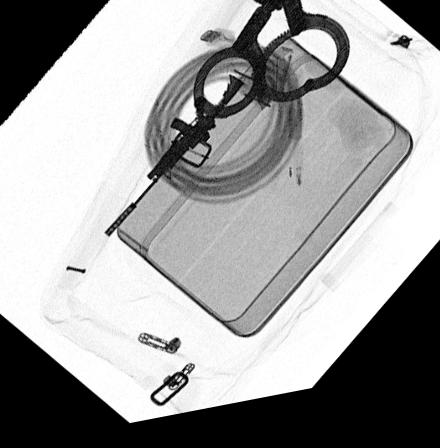Gun: (104, 81, 245, 242)
HandCuffs: (191, 0, 352, 130)
